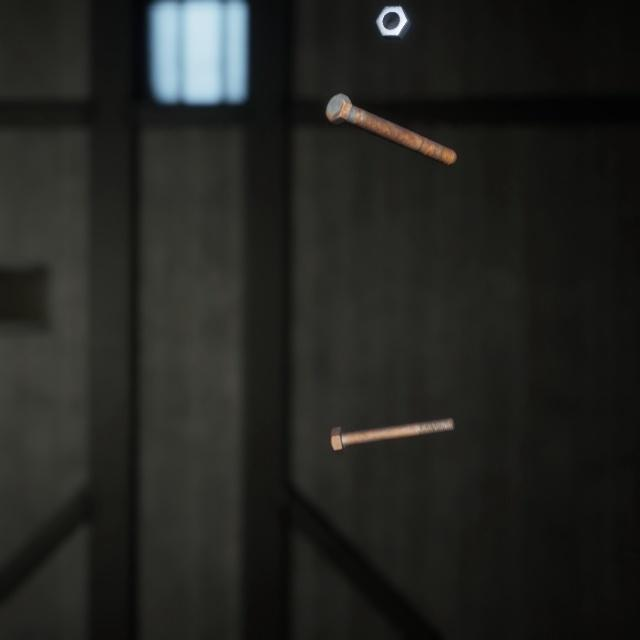bolt: (321, 76, 461, 158), (326, 393, 459, 439)
nut: (370, 0, 416, 36)
